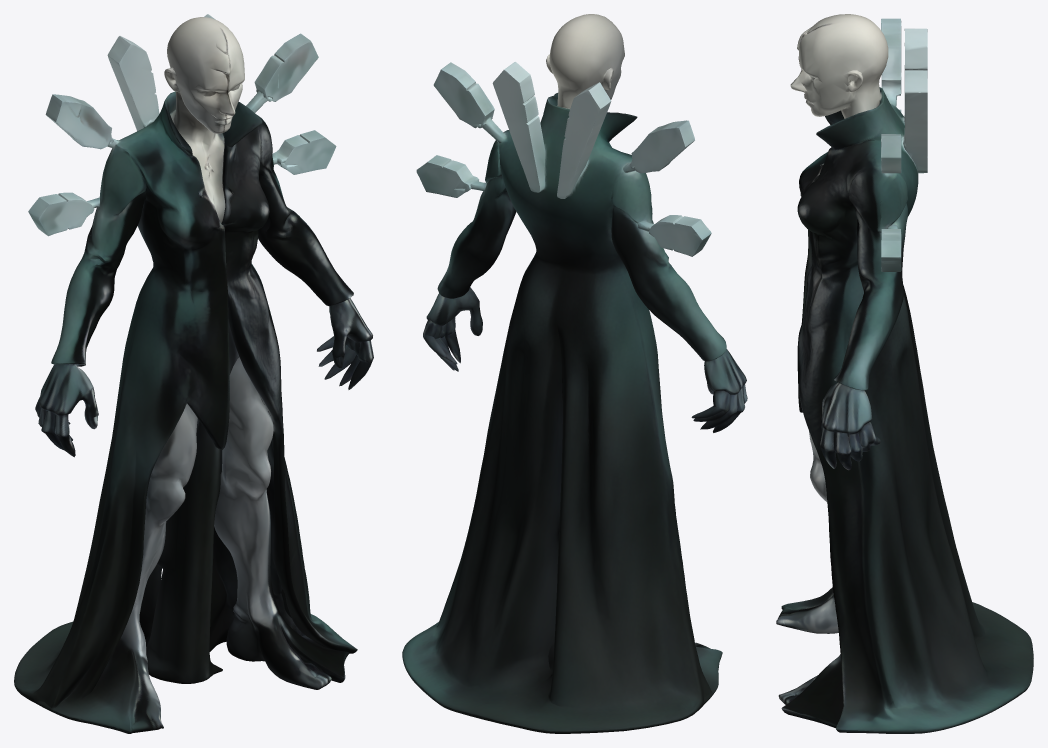
Rendered from boss_glass_widow.glb.
The picture shows the model from 3 angles, left to right: view 1: azimuth 30°, elevation 25°; view 2: azimuth 150°, elevation 25°; view 3: azimuth 270°, elevation 25°; orthographic projection. The views are drawn at different scales.
Visible parts, largest first — view 1: model; view 2: model; view 3: model.
Part boxes in pixels (x1,y1,x2,y2): model: (14, 14, 373, 733); model: (402, 14, 747, 733); model: (776, 14, 1033, 733).
Size of the model in its own units: 0.9741 by 1.89 by 0.6823.
1 material, 1 textured.
